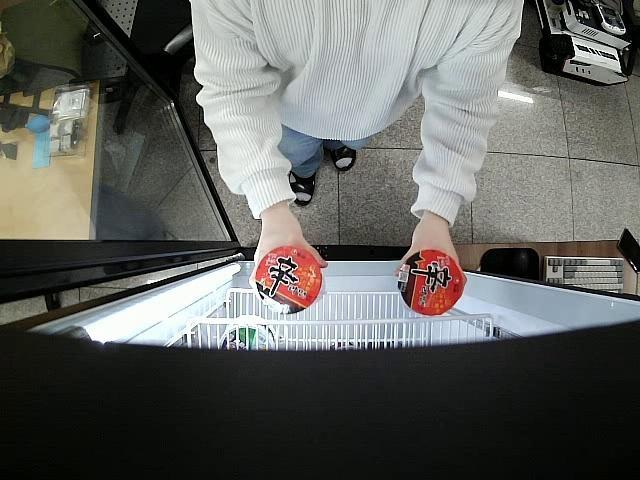02_shinRamen_S: (255, 246, 322, 314), (397, 248, 464, 316)
